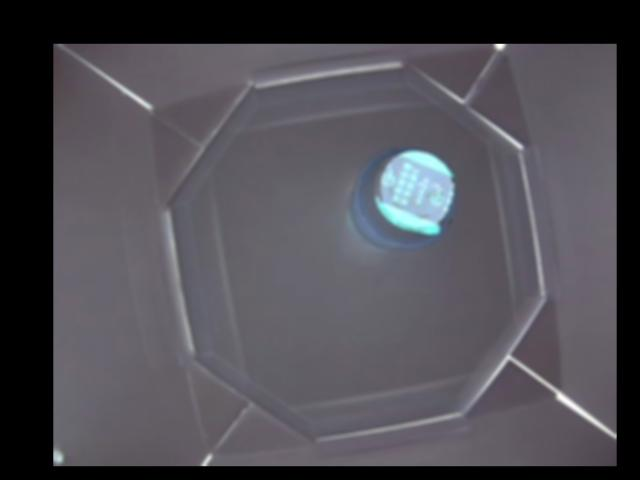Bottle: (349, 146, 455, 252)
